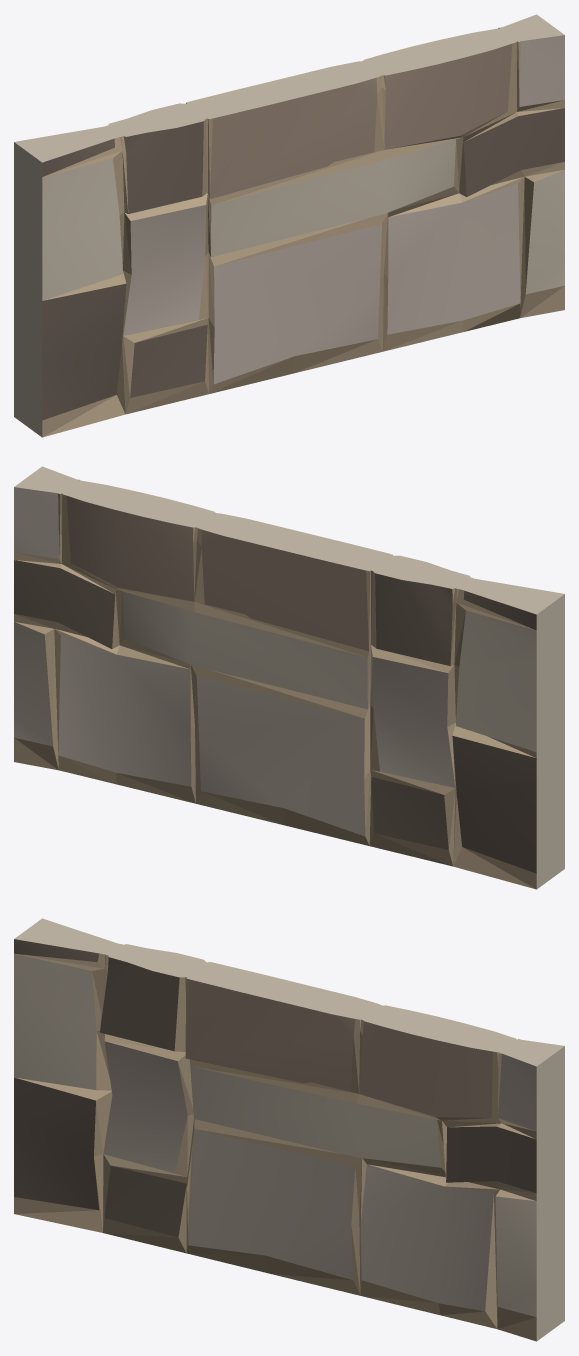
Rendered from RG-Dungeon_small_Wall-04.fbx.
3 renders of one model, top to bottom at view 1: azimuth 30°, elevation 25°; view 2: azimuth 150°, elevation 25°; view 3: azimuth 330°, elevation 25°, orthographic.
Visible parts, largest first — view 1: RG-Dungeon_small_Wall-04; view 2: RG-Dungeon_small_Wall-04; view 3: RG-Dungeon_small_Wall-04.
Part boxes in pixels (x1,y1,x2,y2): RG-Dungeon_small_Wall-04: (14, 14, 564, 437); RG-Dungeon_small_Wall-04: (14, 466, 564, 889); RG-Dungeon_small_Wall-04: (14, 918, 564, 1341).
Bounding box in the file's own units: 20 × 10.05 × 2.56.
